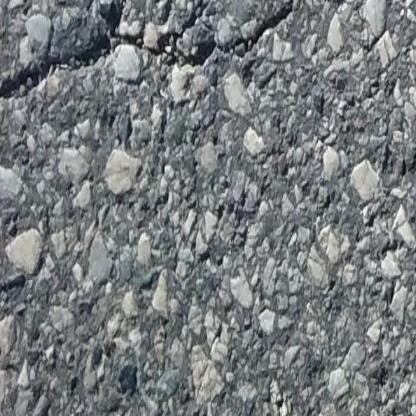Cracks: (0, 0, 302, 113)
